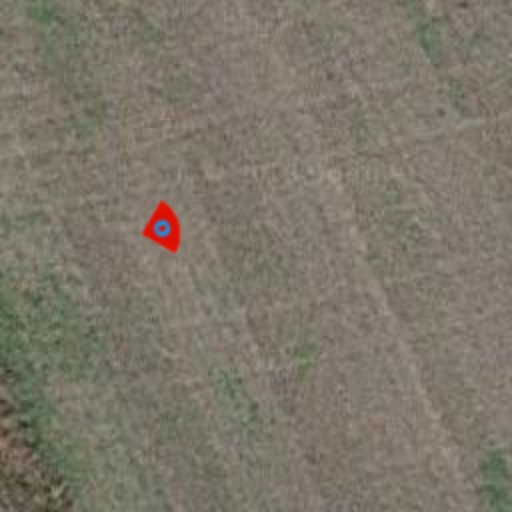quarter_circle: (130, 194, 198, 262)
